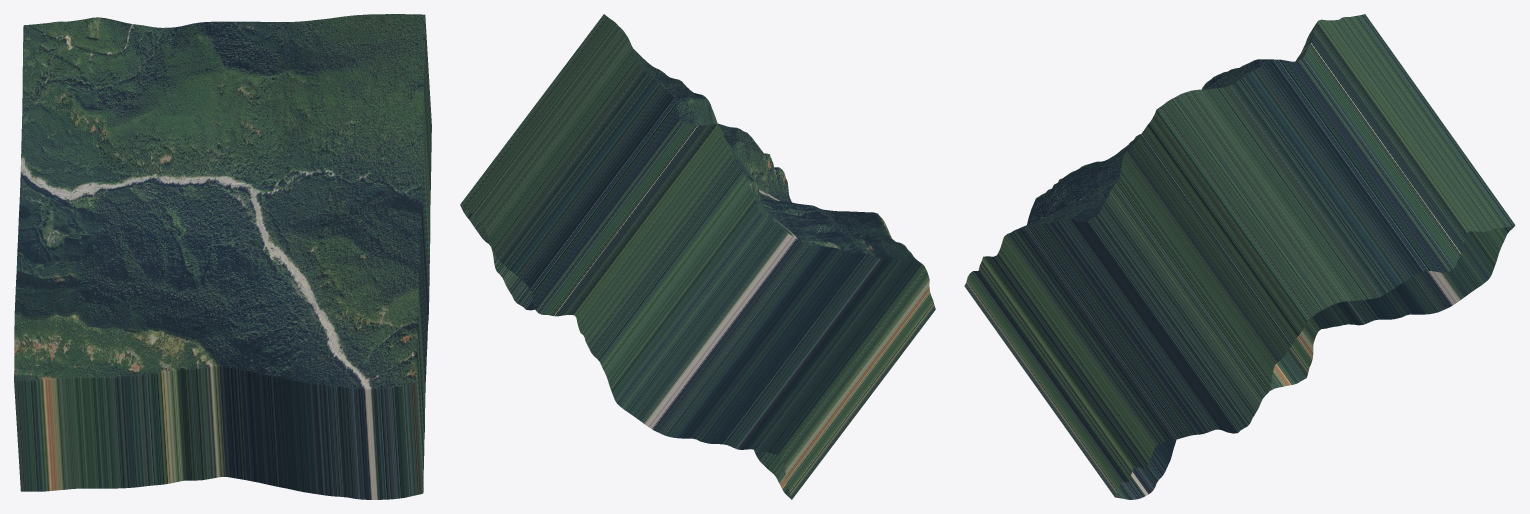
3 views of the same model, side by side, from view 1: azimuth 30°, elevation 25°; view 2: azimuth 150°, elevation 25°; view 3: azimuth 270°, elevation 25° (orthographic). The views are drawn at different scales.
Size of the model in its own units: 5894 by 5234 by 6375.
1 material, 1 textured.
